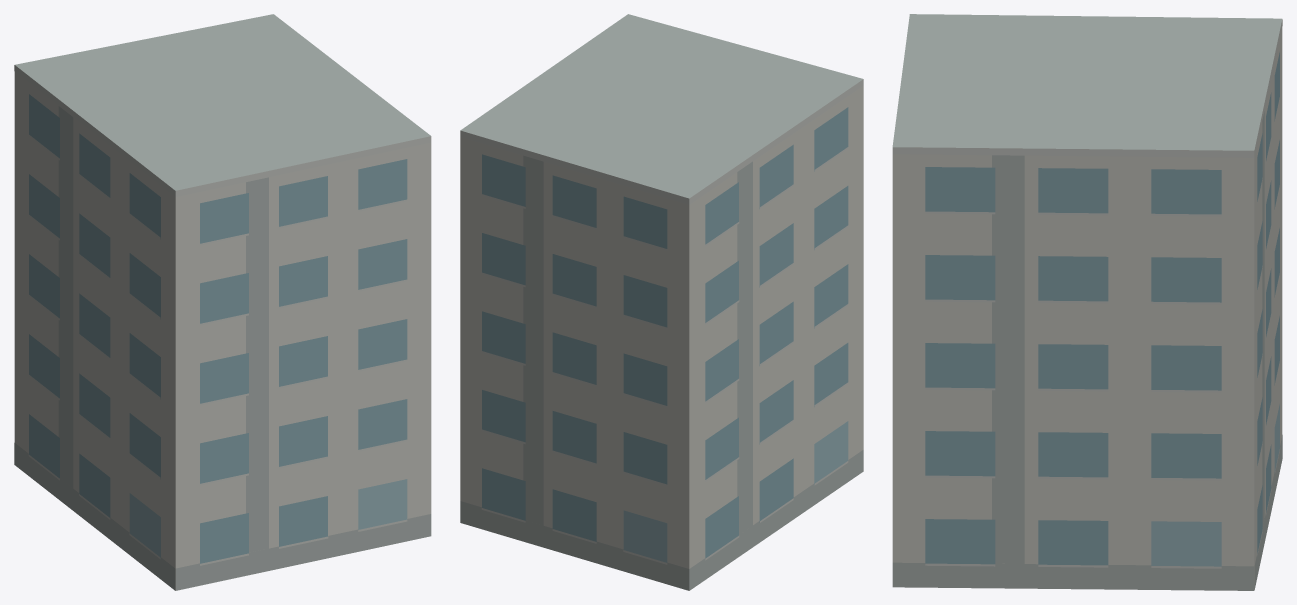
File: survey-upis-32854853.glb
The picture shows the model from 3 angles, left to right: view 1: azimuth 30°, elevation 25°; view 2: azimuth 150°, elevation 25°; view 3: azimuth 270°, elevation 25°; orthographic projection. The views are drawn at different scales.
Parts seen in each view (by area): view 1: survey-upis-32854853.tmp; view 2: survey-upis-32854853.tmp; view 3: survey-upis-32854853.tmp.
Part boxes in pixels (<box>): survey-upis-32854853.tmp: <box>14,14,431,590</box>; survey-upis-32854853.tmp: <box>460,14,863,590</box>; survey-upis-32854853.tmp: <box>892,14,1282,590</box>.
Bounding box in the file's own units: 10.01 × 15 × 12.06.
